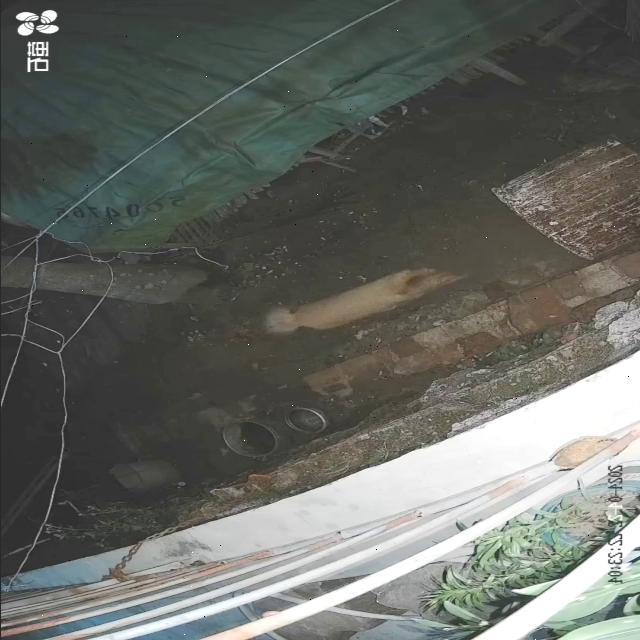dog: (262, 268, 467, 336)
